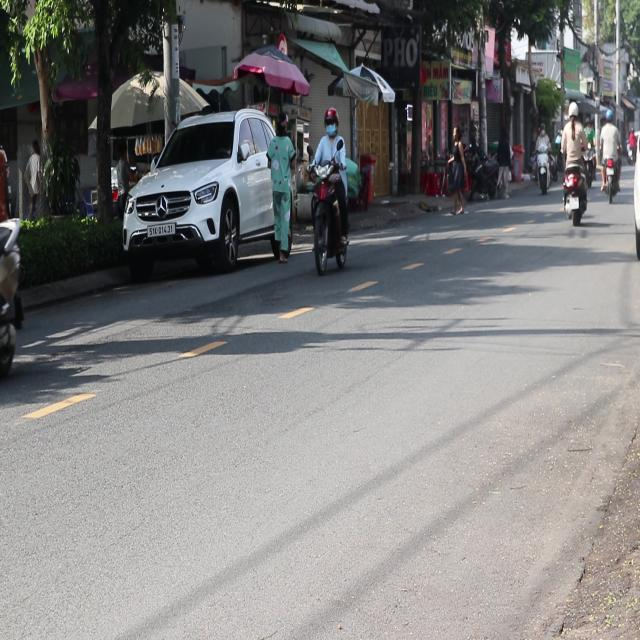helmet: (323, 106, 338, 136)
licenseplate: (306, 105, 353, 274)
